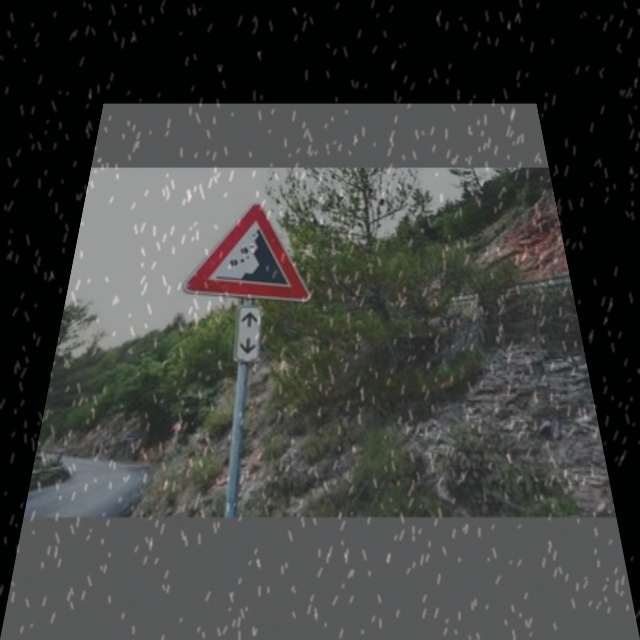Falling_Rocks: (175, 204, 315, 300)
